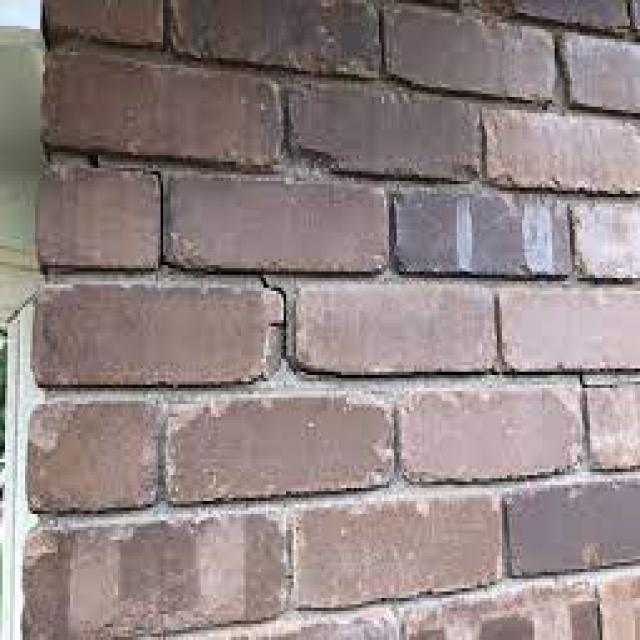Crack: (95, 149, 582, 378)
